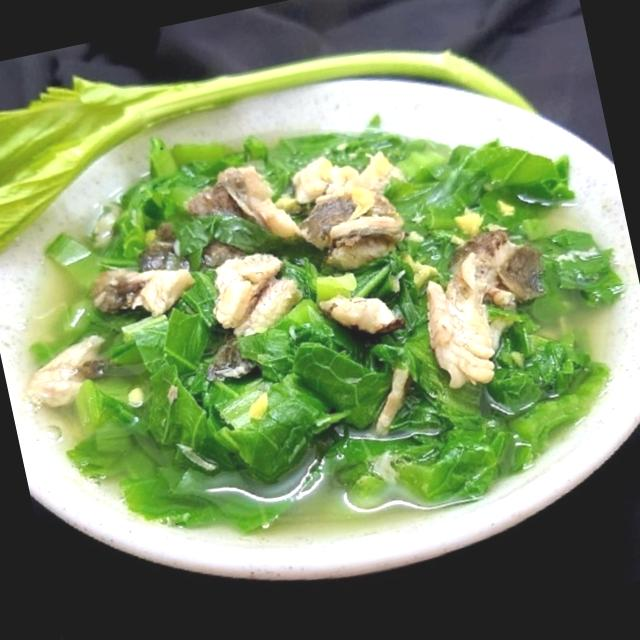canh cai: (30, 117, 623, 529)
